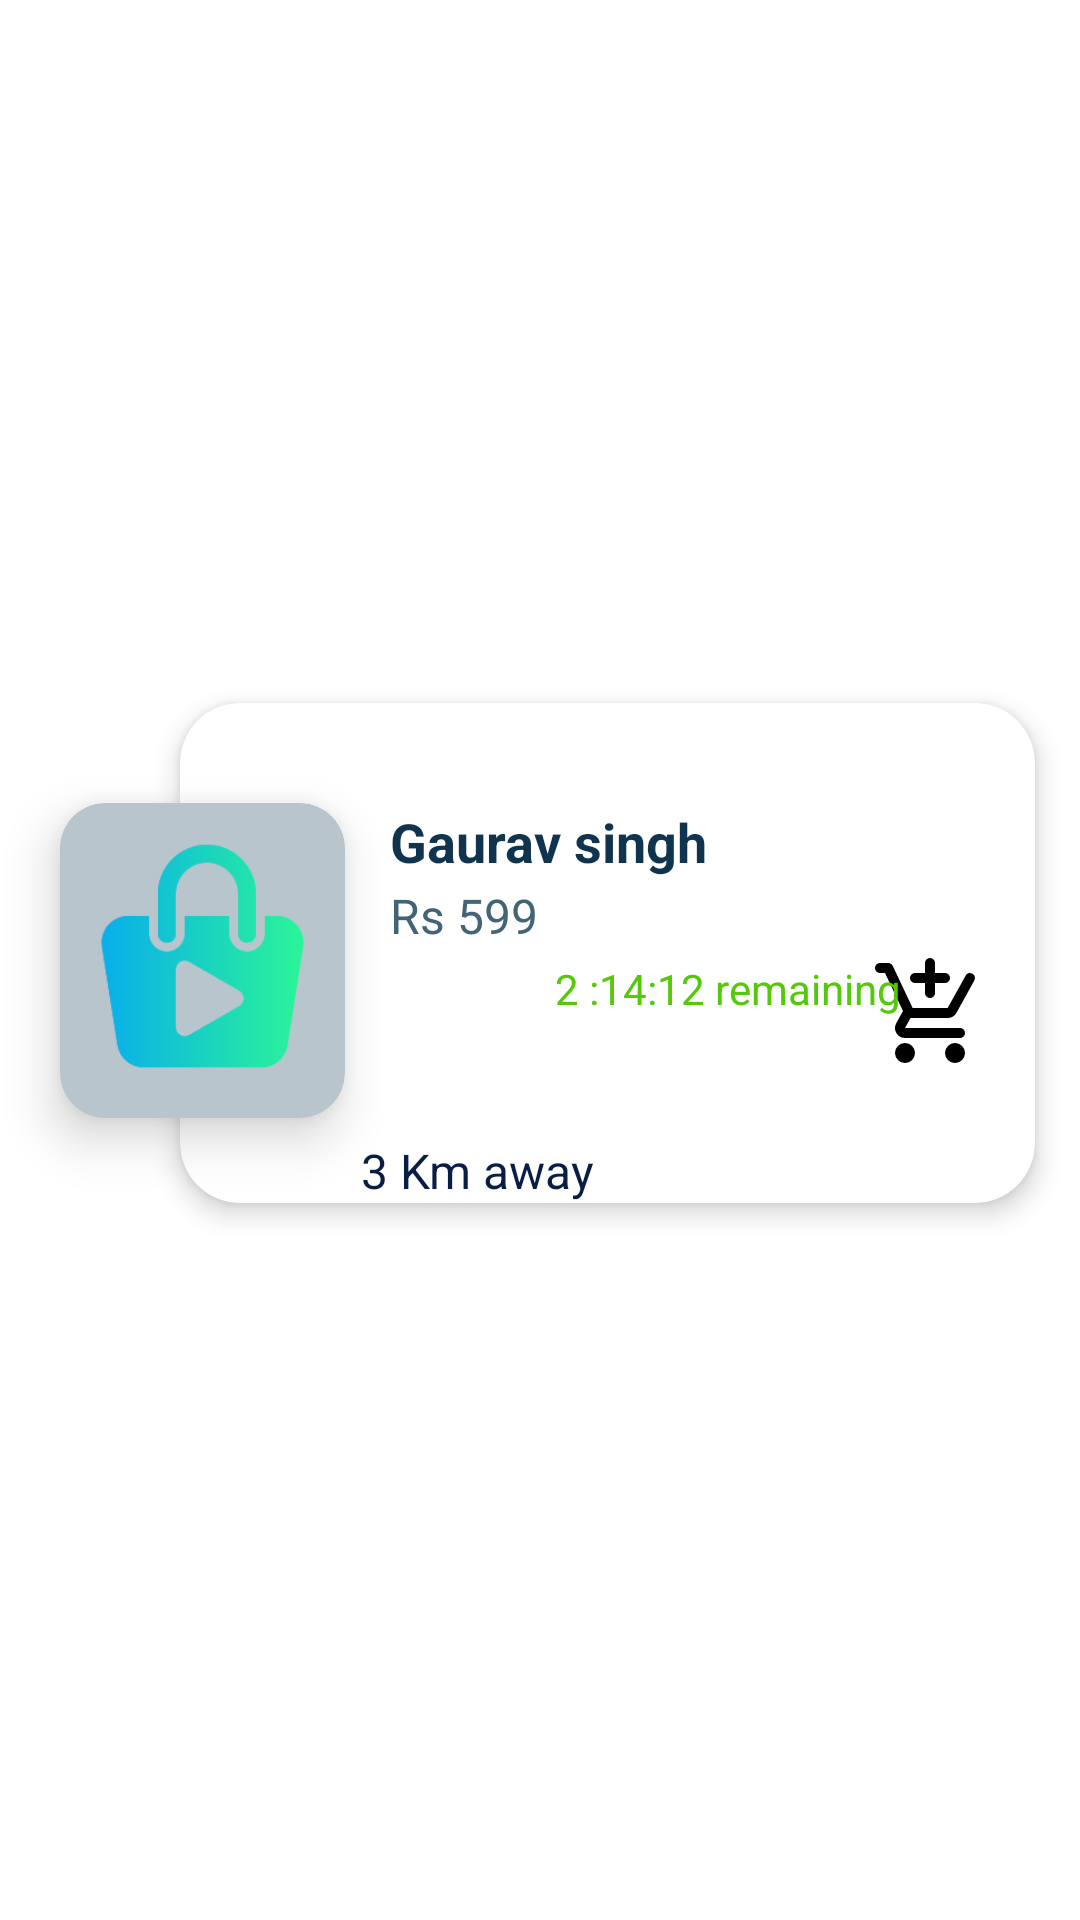

Icon bounding boxes for this 1080px x 1920px phone screenshot, format (x1, y1, x2, y2):
addcart: (875, 958, 975, 1063)
